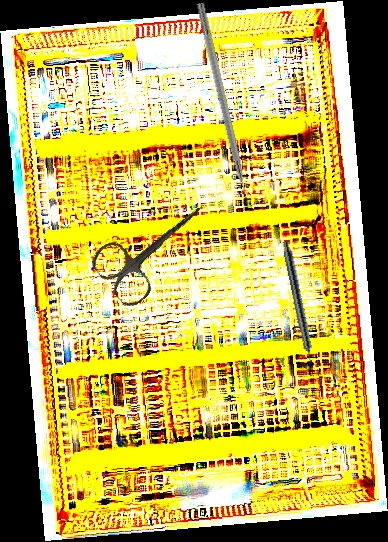Handpiece: (278, 240, 318, 372)
Hook Surgical: (194, 2, 254, 215)
Iris Scissors: (86, 181, 225, 312)
